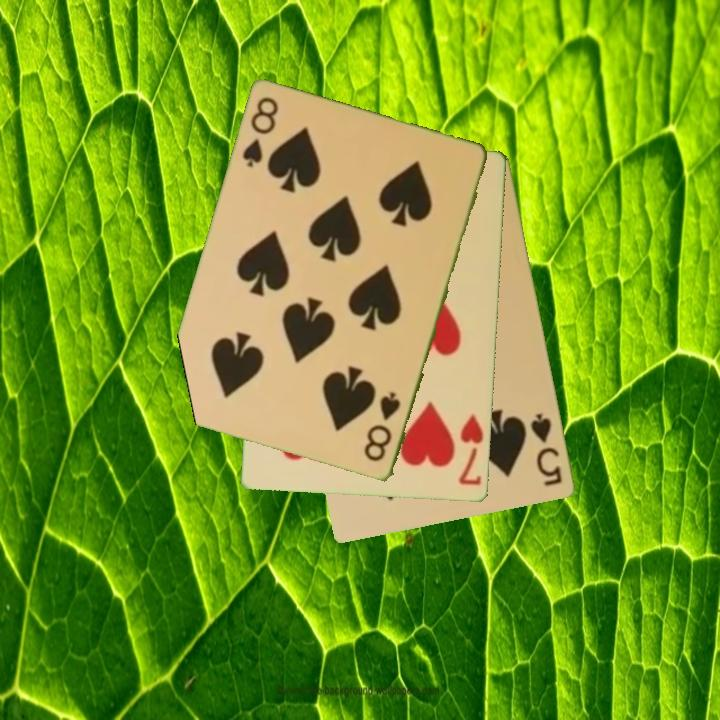5s: (527, 410, 566, 489)
7h: (455, 411, 487, 489)
8s: (360, 389, 404, 465), (239, 94, 282, 171)
